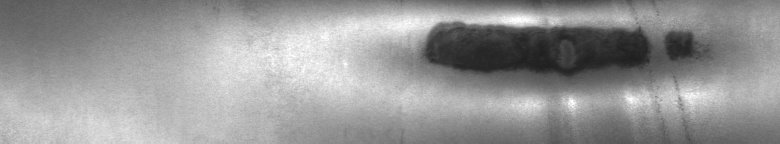ke: (384, 4, 714, 136)
